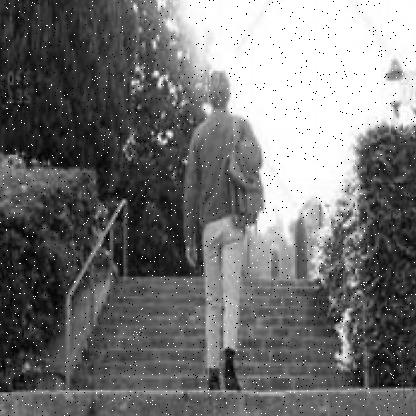stair_up: (65, 286, 367, 416)
